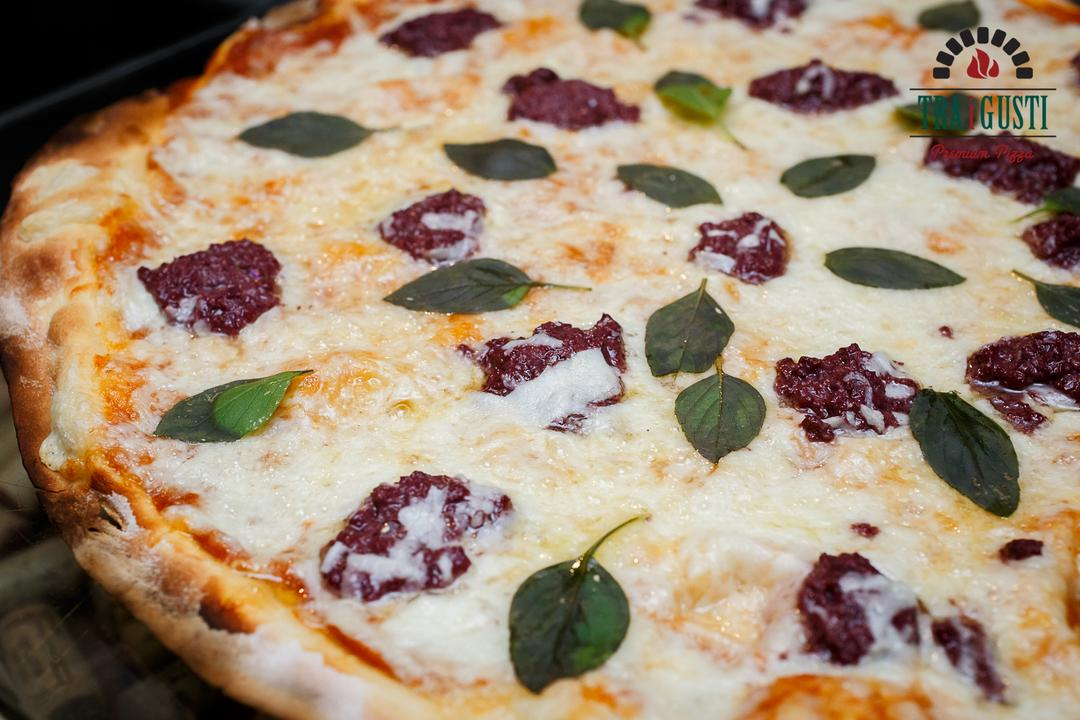Basil: (505, 550, 635, 699), (910, 387, 1025, 521), (151, 369, 295, 441), (381, 253, 529, 315), (822, 239, 971, 299), (643, 284, 734, 379), (676, 379, 767, 467), (238, 106, 374, 159), (442, 136, 561, 189), (613, 159, 726, 214), (775, 149, 874, 199), (652, 66, 732, 125), (898, 91, 984, 133), (579, 0, 655, 39), (1035, 274, 1080, 334), (917, 0, 981, 41), (1033, 180, 1080, 219)
Pizza: (0, 0, 1080, 720)
